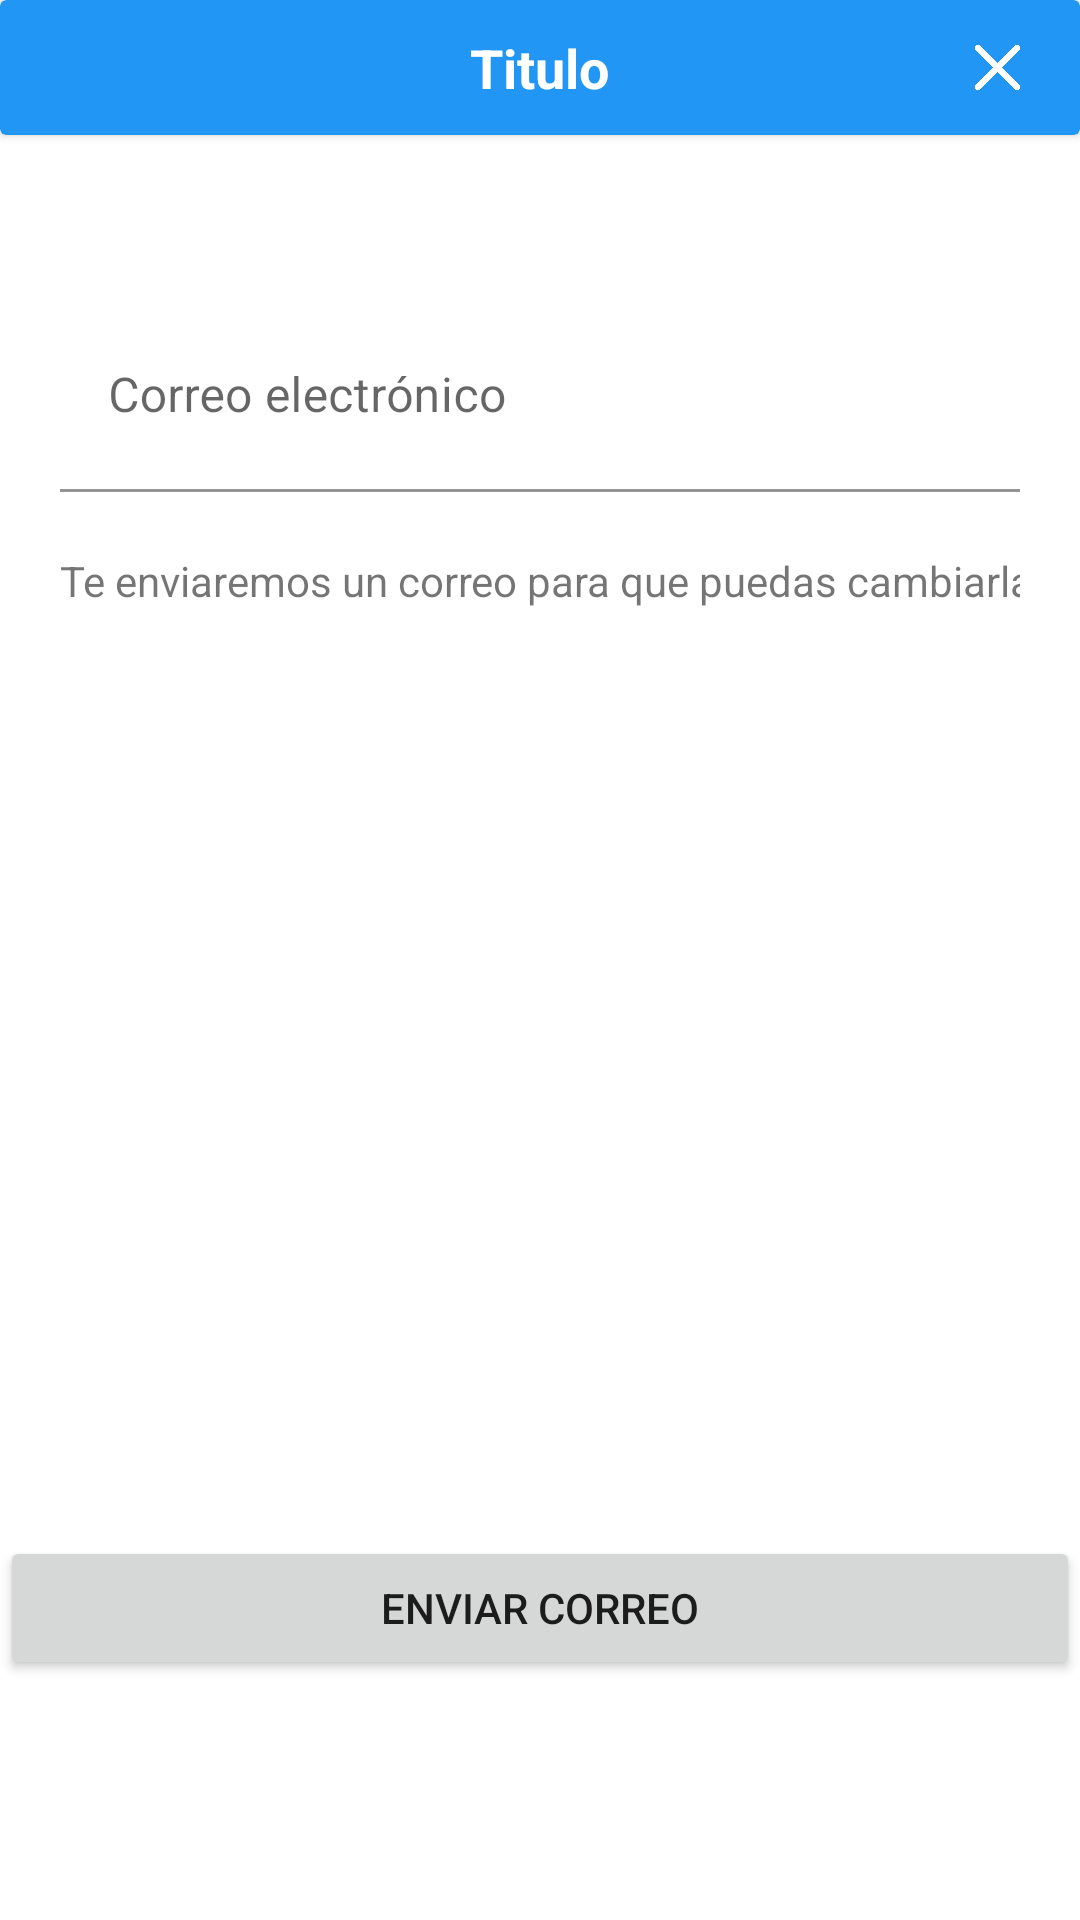

Icon click points for this 1080×1920 phone screenshot, format point (x, y):
close: point (997, 67)
